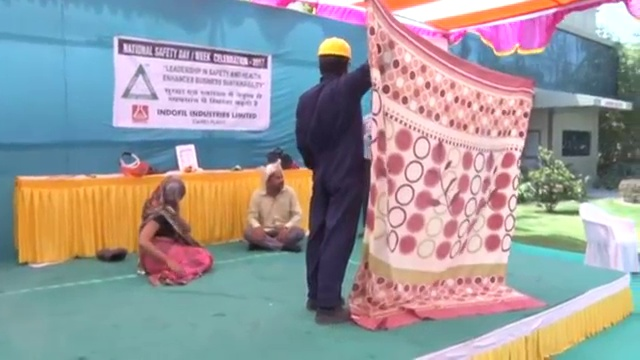helmet: (314, 35, 353, 61)
helmet_off: (155, 174, 190, 205), (261, 161, 285, 192)
helmet_on: (312, 34, 356, 83)
person: (293, 30, 372, 326), (139, 173, 210, 286), (241, 161, 306, 251)
